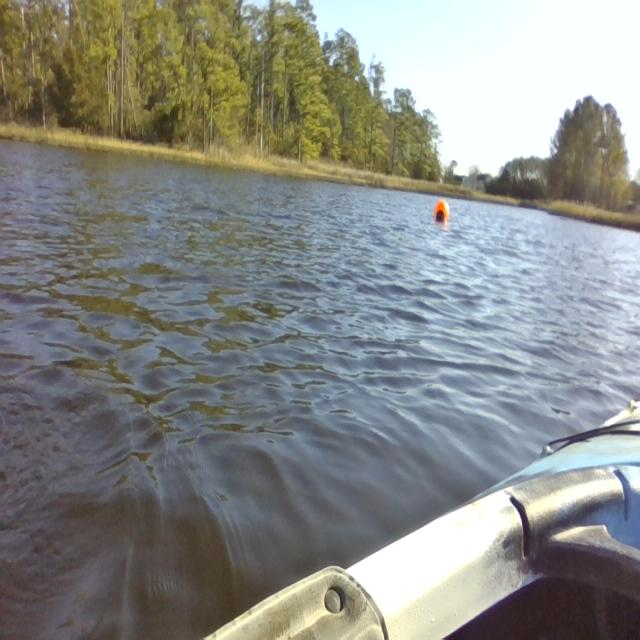Buoy: (430, 190, 453, 237)
